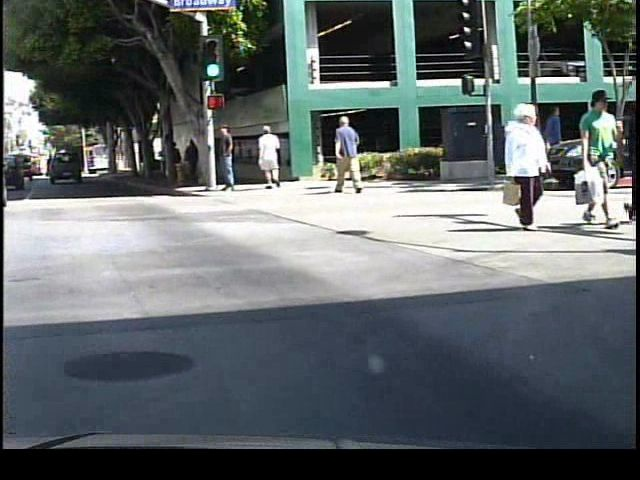person: (495, 103, 556, 236), (576, 89, 619, 233), (335, 113, 369, 196), (617, 98, 639, 223), (216, 123, 246, 204), (538, 103, 566, 181), (259, 123, 288, 194), (169, 140, 185, 187), (187, 136, 204, 171)
